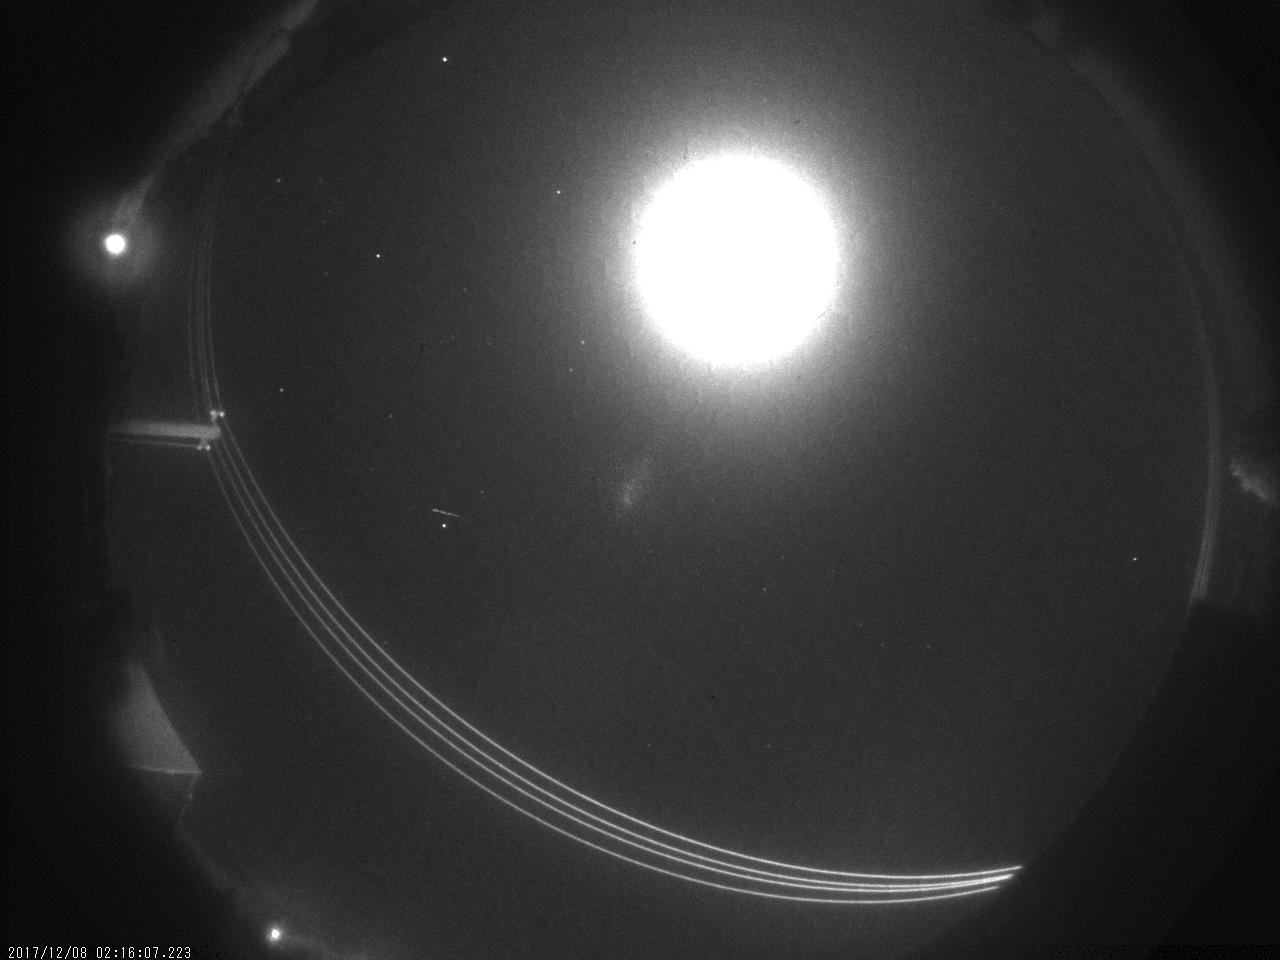meteor: (424, 498, 467, 526)
